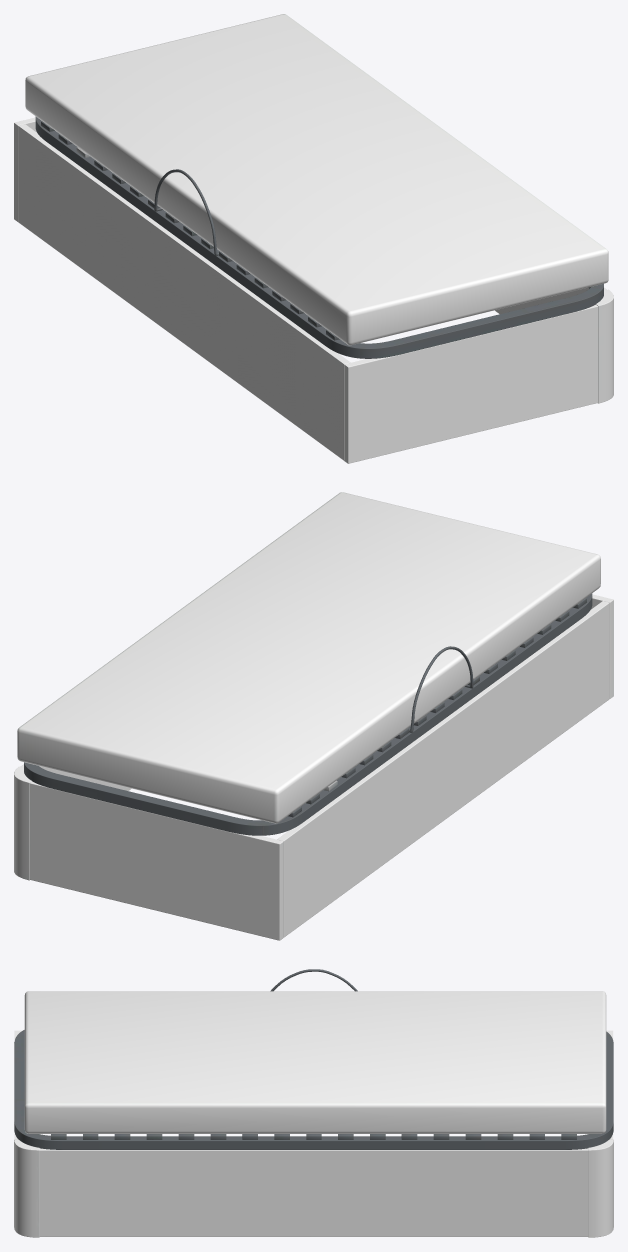
File: abo-B07GFFKVG3.glb
The picture shows the model from 3 angles, top to bottom: view 1: azimuth 30°, elevation 25°; view 2: azimuth 150°, elevation 25°; view 3: azimuth 270°, elevation 25°; orthographic projection. The views are drawn at different scales.
Bounding box in the file's own units: 0.9 × 0.5261 × 1.9.
Materials: 1 (1 with a texture image).
